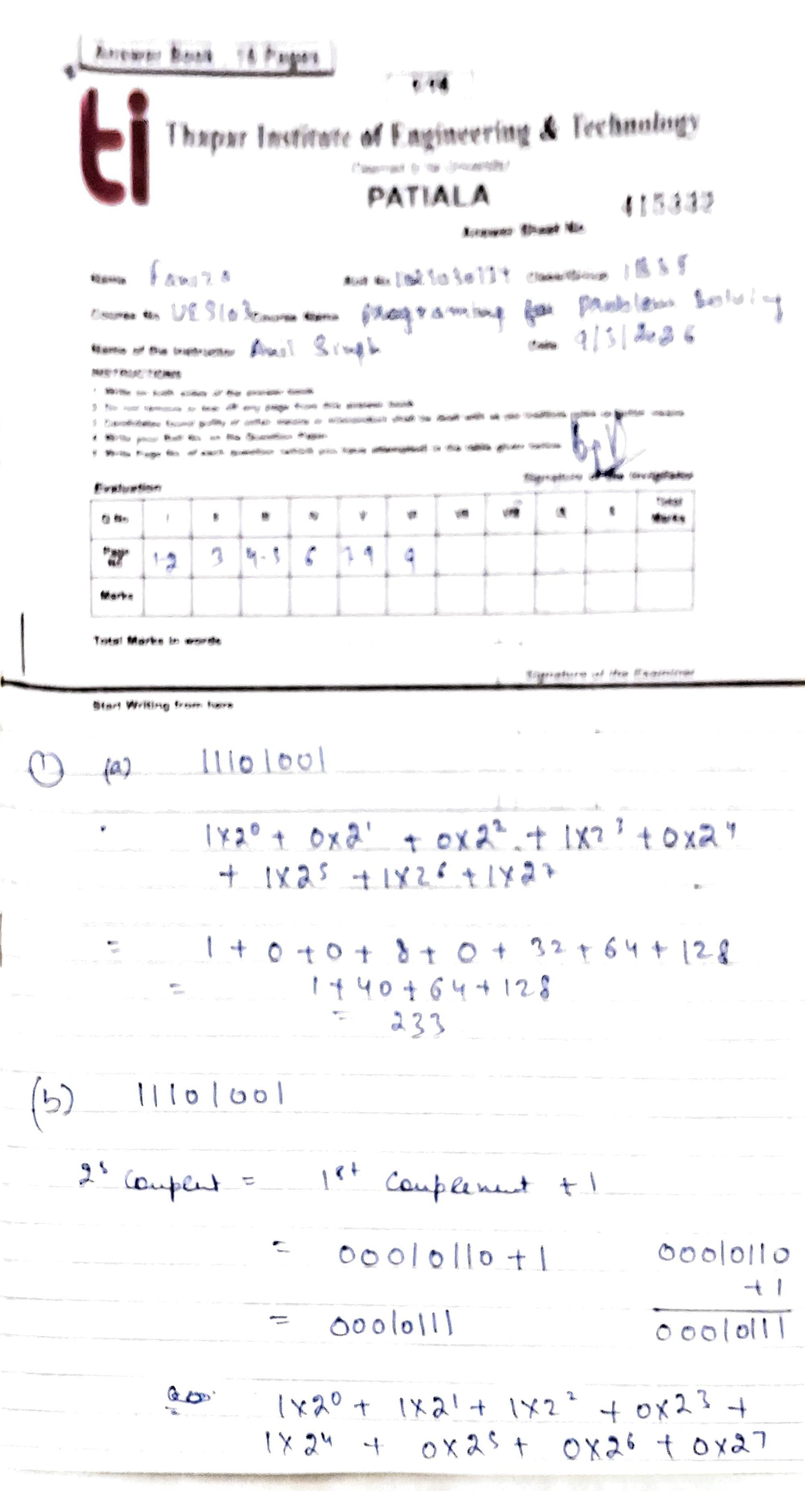cuttings: (167, 1384, 212, 1405)
